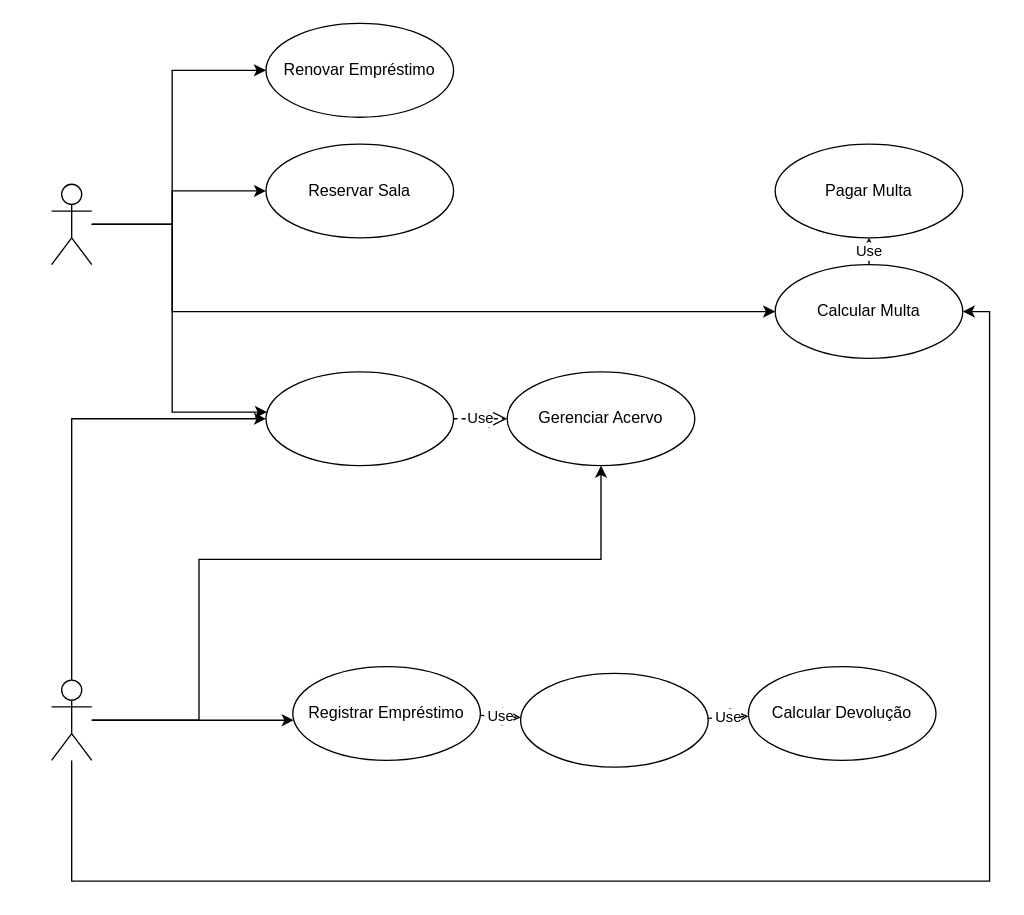
Some shapes in this 1024 by 915 pixel diagram are drawn without their labels. The centre of each missing label's shape, as x and y in pixels:
"Bibliotecária" belongs at point 71,719.
"Consultar Acervo" belongs at point 359,418.
"Registrar Devolução" belongs at point 613,719.
"Universitario" belongs at point 71,224.
